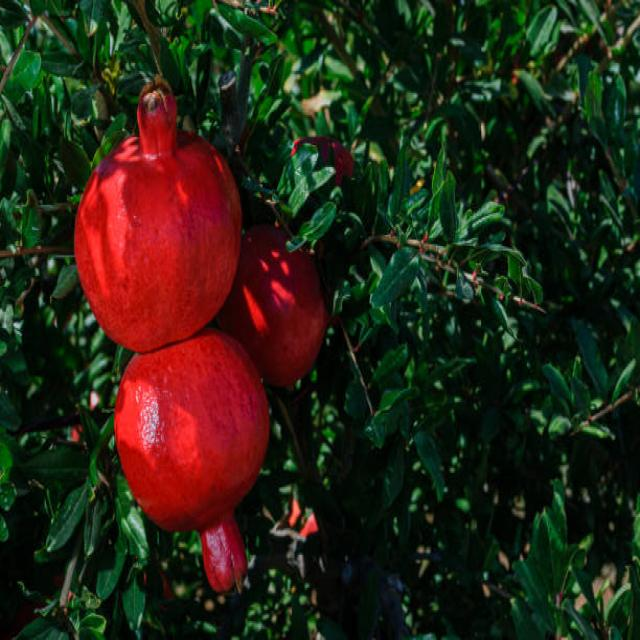Ripe: (72, 80, 244, 348), (109, 336, 273, 594)
